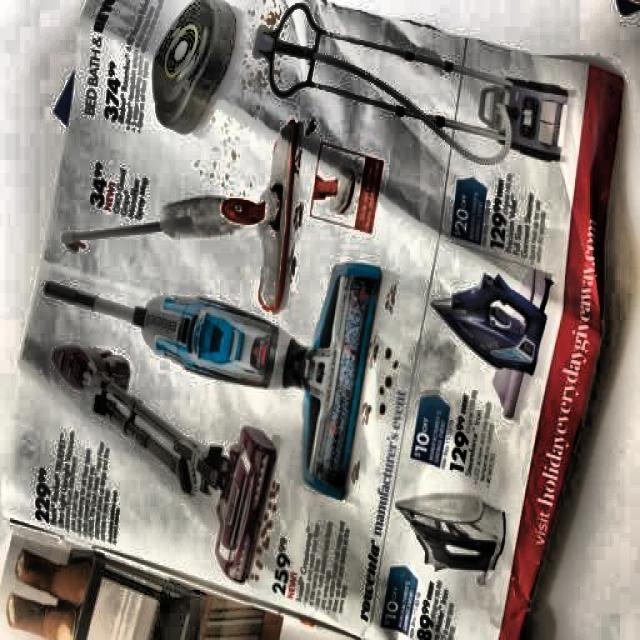paper: (8, 0, 630, 640)
